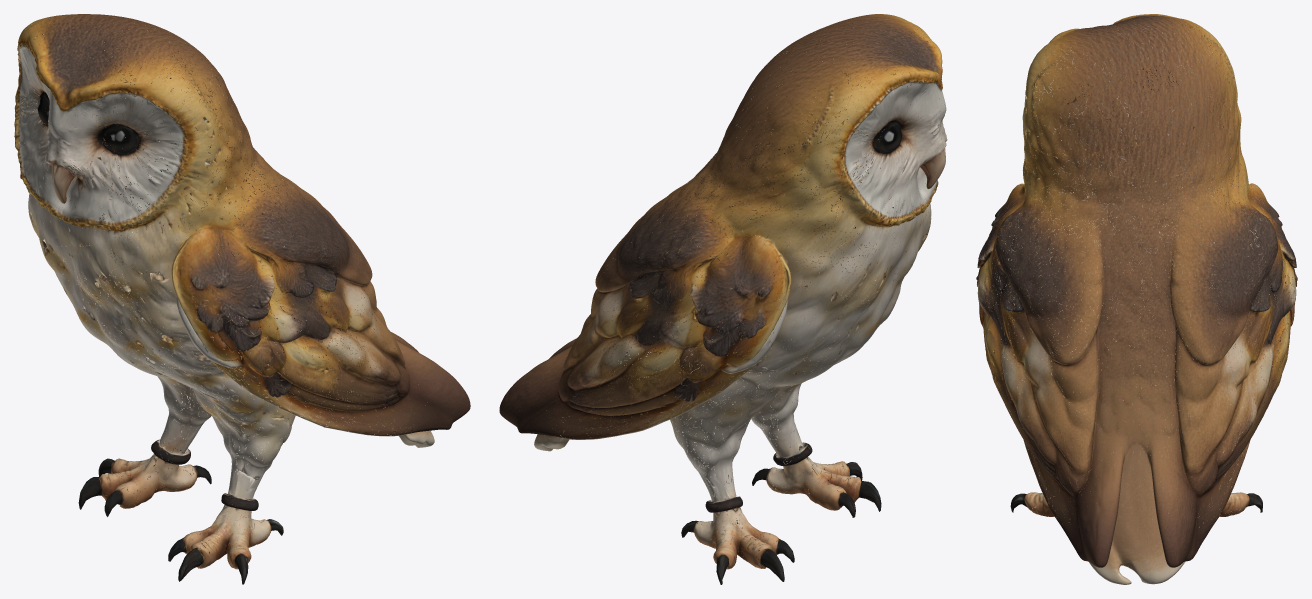
The model's file is owl.glb.
3 renders of one model, left to right at view 1: azimuth 30°, elevation 25°; view 2: azimuth 150°, elevation 25°; view 3: azimuth 270°, elevation 25°, orthographic. The views are drawn at different scales.
Parts seen in each view (by area): view 1: tripo_node_33fb0976; view 2: tripo_node_33fb0976; view 3: tripo_node_33fb0976.
Boxes of the visible parts, <box> form: tripo_node_33fb0976: <box>14,14,470,584</box>; tripo_node_33fb0976: <box>499,14,947,584</box>; tripo_node_33fb0976: <box>976,14,1297,584</box>.
Bounding box in the file's own units: 0.8118 × 0.9811 × 0.6211.
1 material, 1 textured.
